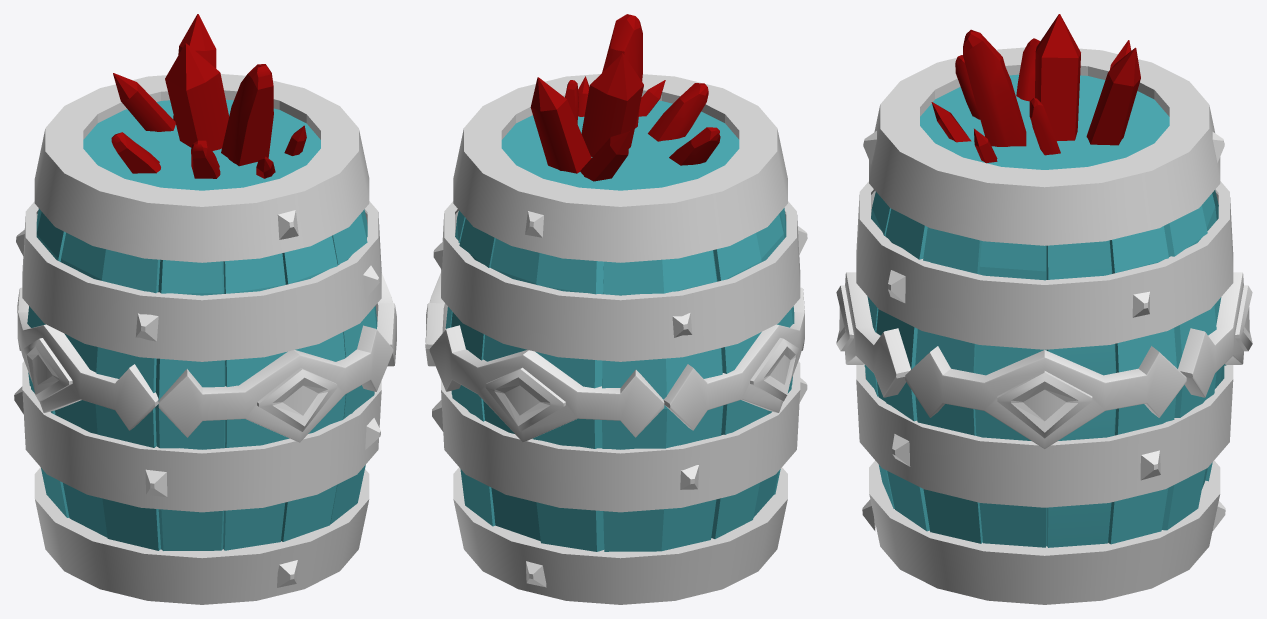
Rendered from Barril01conCristal.fbx.
The picture shows the model from 3 angles, left to right: view 1: azimuth 30°, elevation 25°; view 2: azimuth 150°, elevation 25°; view 3: azimuth 270°, elevation 25°; orthographic projection. The views are drawn at different scales.
Parts seen in each view (by area): view 1: Barril, BarrilAroMidDown (×2), BarrilAroUp, BarrilAroMidUp, BarrilCristal01, BarrilCristal02, Object004, Cristal014, Cristal015, Cristal013, Cristal018, Box028 (+2 smaller); view 2: Barril, BarrilAroMidDown (×2), BarrilAroUp, BarrilAroMidUp, BarrilCristal01, BarrilCristal02, Object004, Cristal013, Cristal015, Cristal018, Cristal014, Cristal017 (+2 smaller); view 3: Barril, BarrilAroMidDown (×2), BarrilAroUp, BarrilAroMidUp, BarrilCristal02, BarrilCristal01, Cristal014, Object004, Cristal013, Cristal017, Cristal015, Box032 (+3 smaller).
Part boxes in pixels (x1,y1,x2,y2): Barril: (27,99,377,550); BarrilAroMidDown (×2): (22,361,381,604); BarrilAroUp: (34,74,369,262); BarrilAroMidUp: (22,201,381,361); BarrilCristal01: (158,325,393,442); BarrilCristal02: (17,272,396,430); Object004: (165,43,229,150); Cristal014: (221,64,273,166); Cristal015: (111,73,175,173); Cristal013: (173,14,216,120); Cristal018: (191,140,220,178); Box028: (14,386,167,497); Barril: (445,100,794,551); BarrilAroMidDown (×2): (441,361,800,604); BarrilAroUp: (453,74,787,262); BarrilAroMidUp: (441,201,800,361); BarrilCristal01: (429,325,664,442); BarrilCristal02: (425,273,804,430); Object004: (581,53,643,156); Cristal013: (530,77,591,173); Cristal015: (580,127,720,181); Cristal018: (648,83,708,141); Cristal014: (602,14,642,128); Cristal017: (565,76,589,123); Barril: (864,74,1226,547); BarrilAroMidDown (×2): (856,364,1233,604); BarrilAroUp: (869,47,1220,245); BarrilAroMidUp: (856,181,1233,349); BarrilCristal02: (905,346,1186,448); BarrilCristal01: (836,272,1252,397); Cristal014: (963,29,1026,146); Object004: (1035,14,1080,140); Cristal013: (1086,47,1140,145); Cristal017: (974,98,1060,163); Cristal015: (1016,38,1131,101); Box032: (892,434,1160,480).
Bounding box in the file's own units: 43.97 × 60.07 × 43.97.
